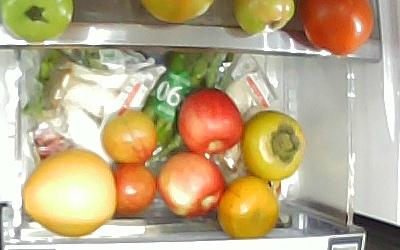apple: (157, 152, 227, 218), (177, 87, 243, 156)
grapefruit: (22, 148, 116, 238)
persimmon: (243, 110, 308, 181), (218, 174, 282, 238)
prune: (101, 107, 157, 165), (113, 163, 157, 217)
